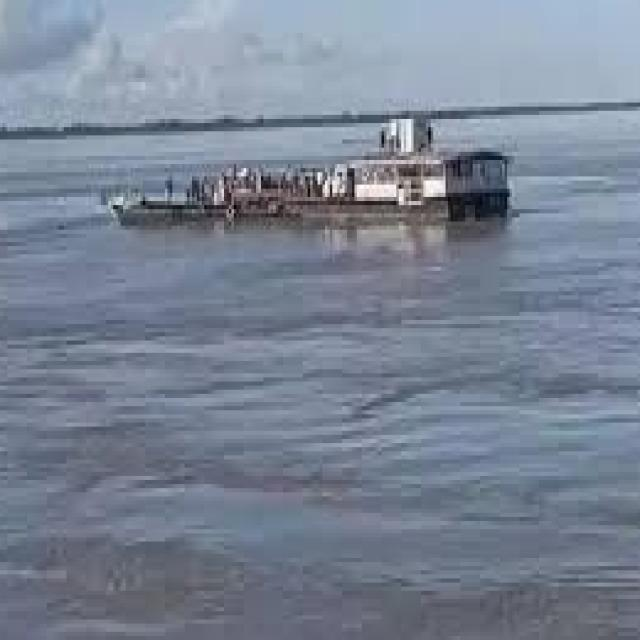houseboat: (100, 88, 521, 231)
